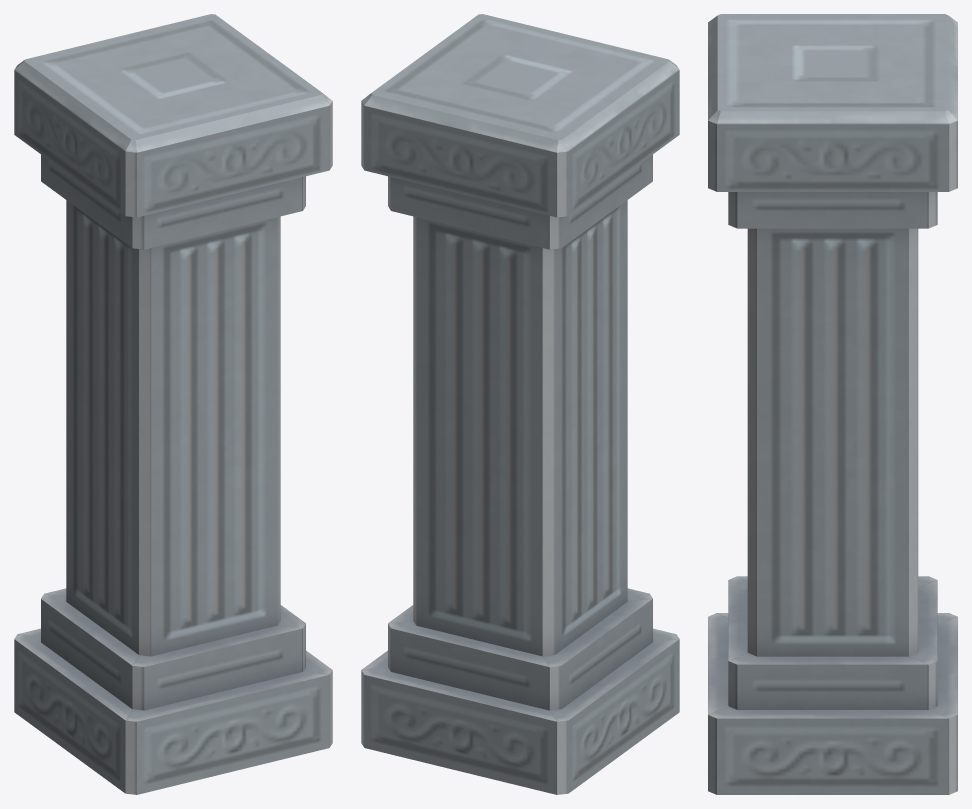
Rendered from Pillar.fbx.
The picture shows the model from 3 angles, left to right: view 1: azimuth 30°, elevation 25°; view 2: azimuth 150°, elevation 25°; view 3: azimuth 270°, elevation 25°; orthographic projection. The views are drawn at different scales.
Visible parts, largest first — view 1: pillar; view 2: pillar; view 3: pillar.
Part boxes in pixels (x1,y1,x2,y2): pillar: [14, 14, 332, 794]; pillar: [361, 14, 679, 794]; pillar: [708, 14, 957, 794].
Size of the model in its own units: 1 by 3 by 1.
